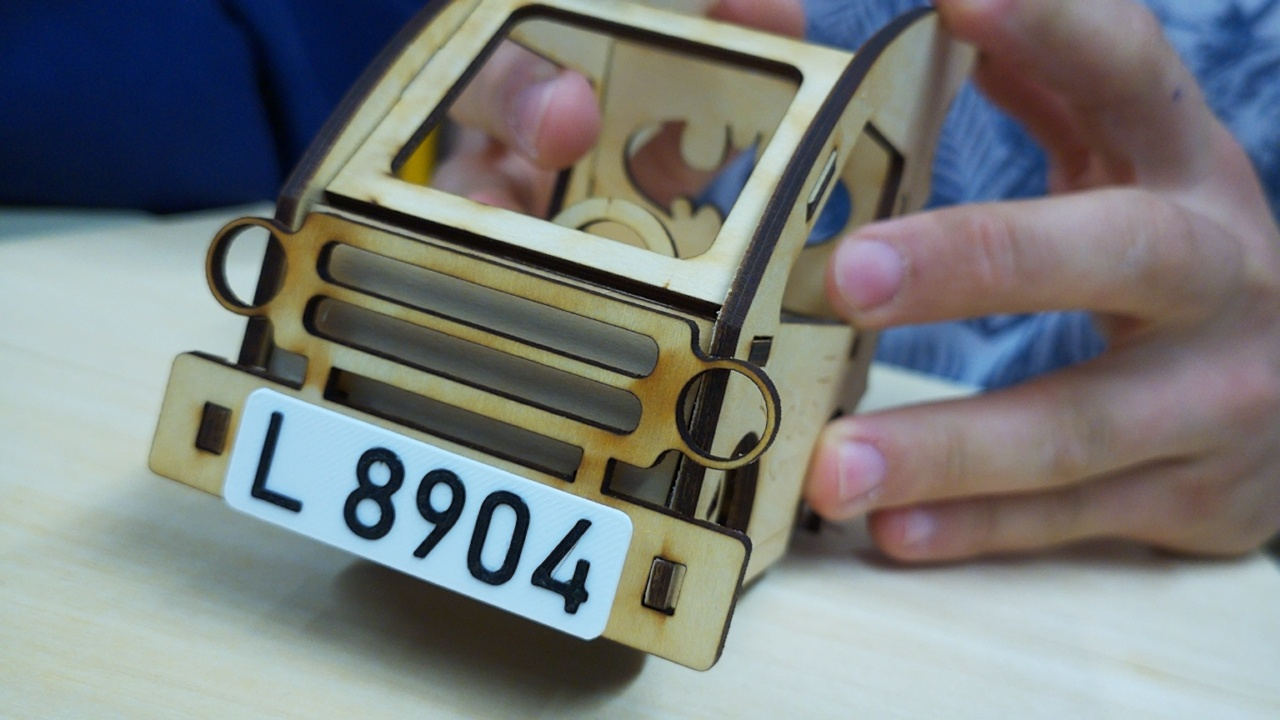license_plate: (222, 382, 636, 641)
